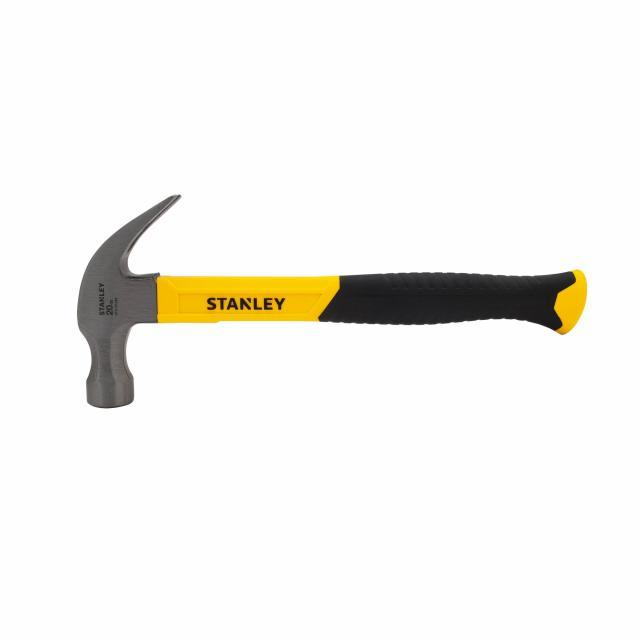hammer: (62, 185, 604, 418)
